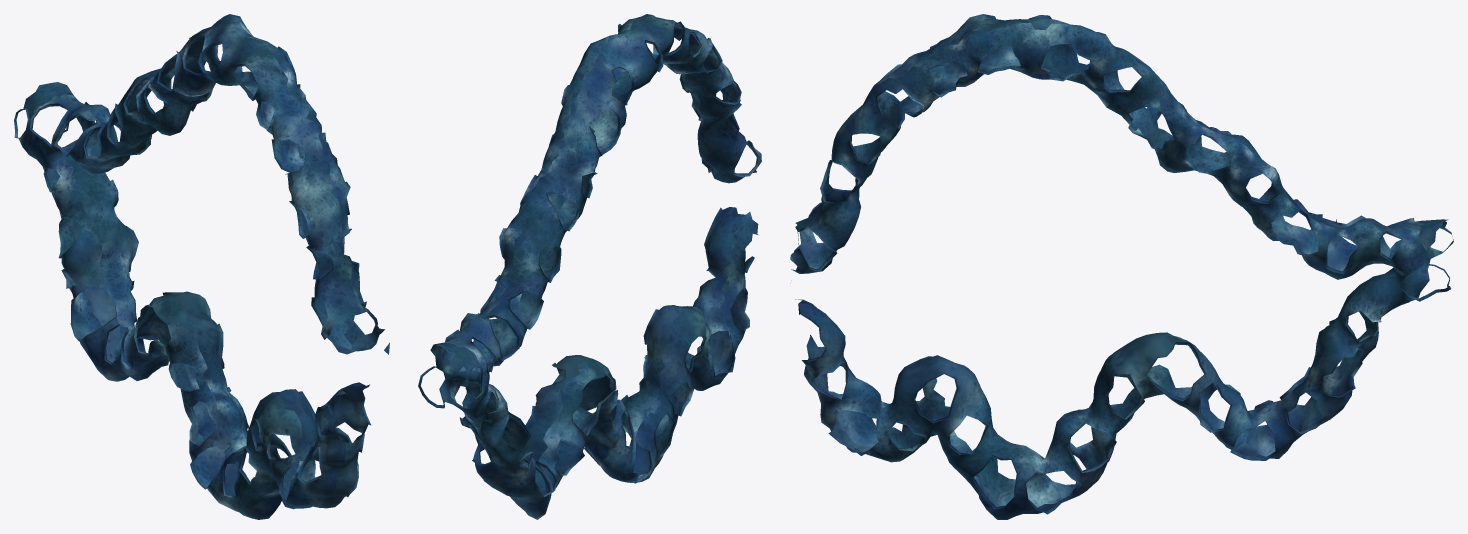
File: stage5.fbx
3 renders of one model, left to right at view 1: azimuth 30°, elevation 25°; view 2: azimuth 150°, elevation 25°; view 3: azimuth 270°, elevation 25°, orthographic. The views are drawn at different scales.
Visible parts, largest first — view 1: stage5; view 2: stage5; view 3: stage5.
Boxes of the visible parts, x1,y1,x2,y2 form: stage5: (14, 14, 389, 519); stage5: (418, 14, 761, 519); stage5: (790, 14, 1453, 519).
Bounding box in the file's own units: 100 × 578 × 700.
